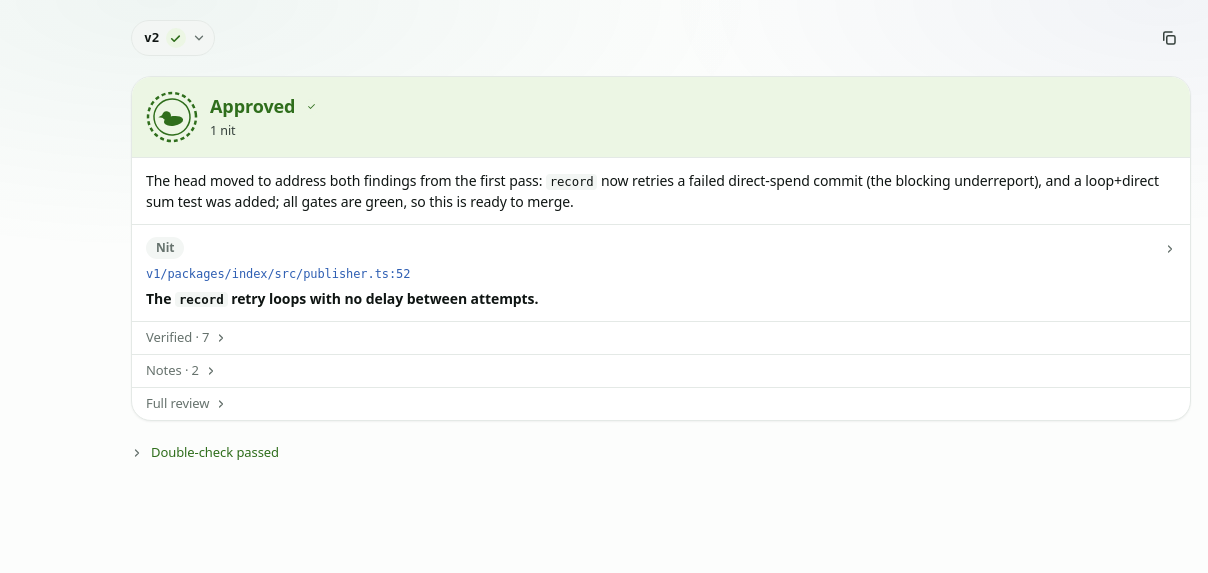
Test: picking an older version in the pane loads it on demand and draws it as a card
The width and height of the screenshot is (1208, 573).
Expected: the text "Approved" is shown, [210,93,295,120]
Click the button named "Version: v2": (173, 38) [131,20,214,56]
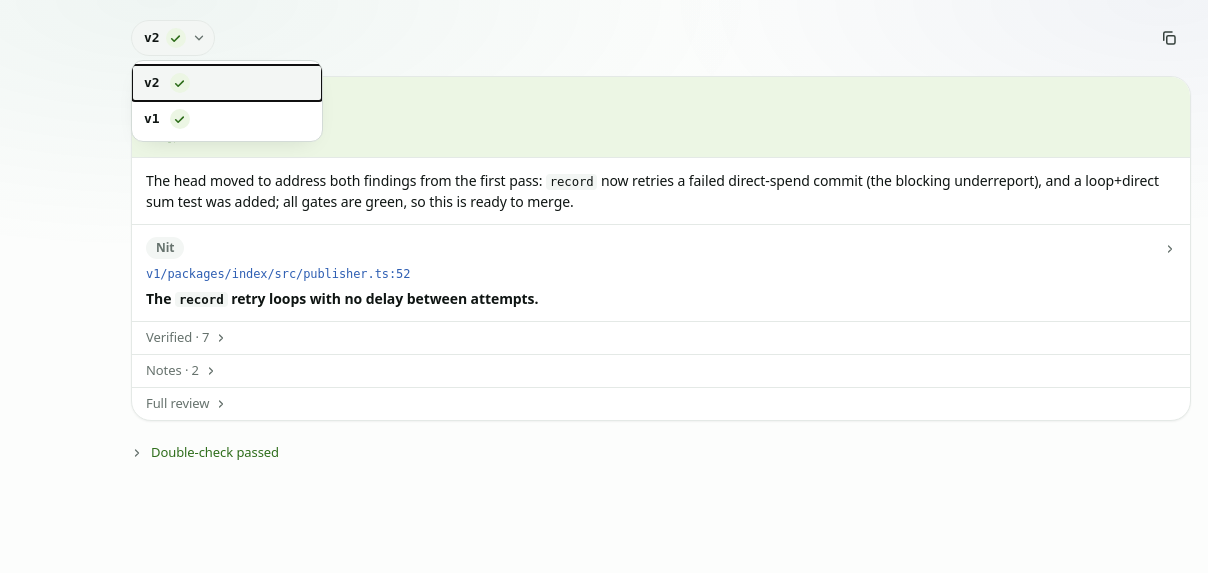
Click the menu item "v1": (227, 119) [132,101,322,137]
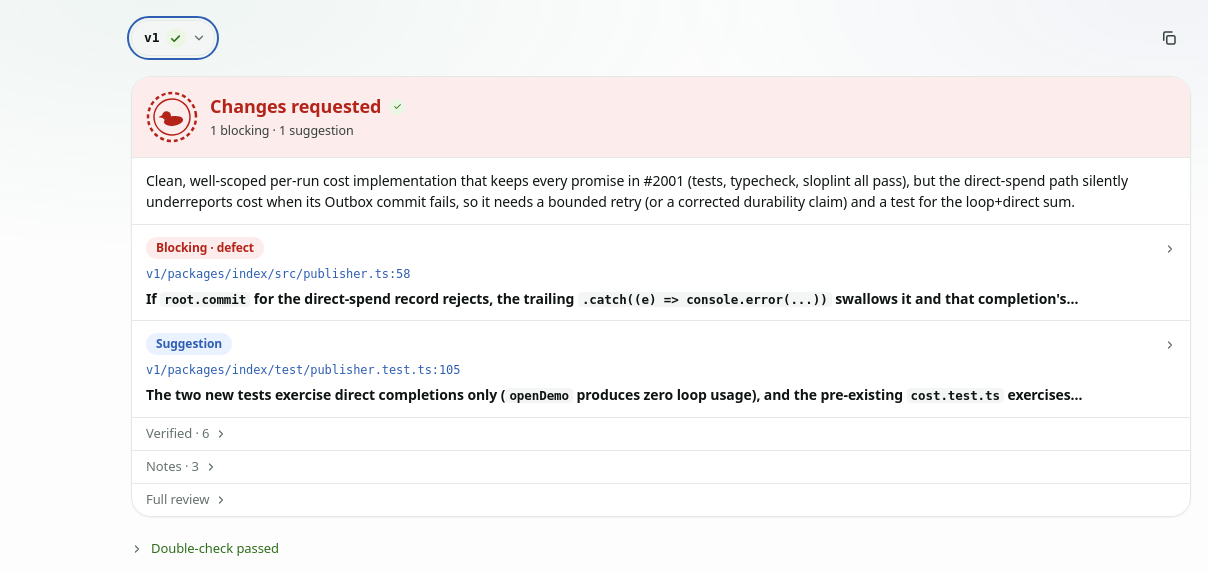
Expected: the text "Changes requested" is shown, [210,93,381,120]
